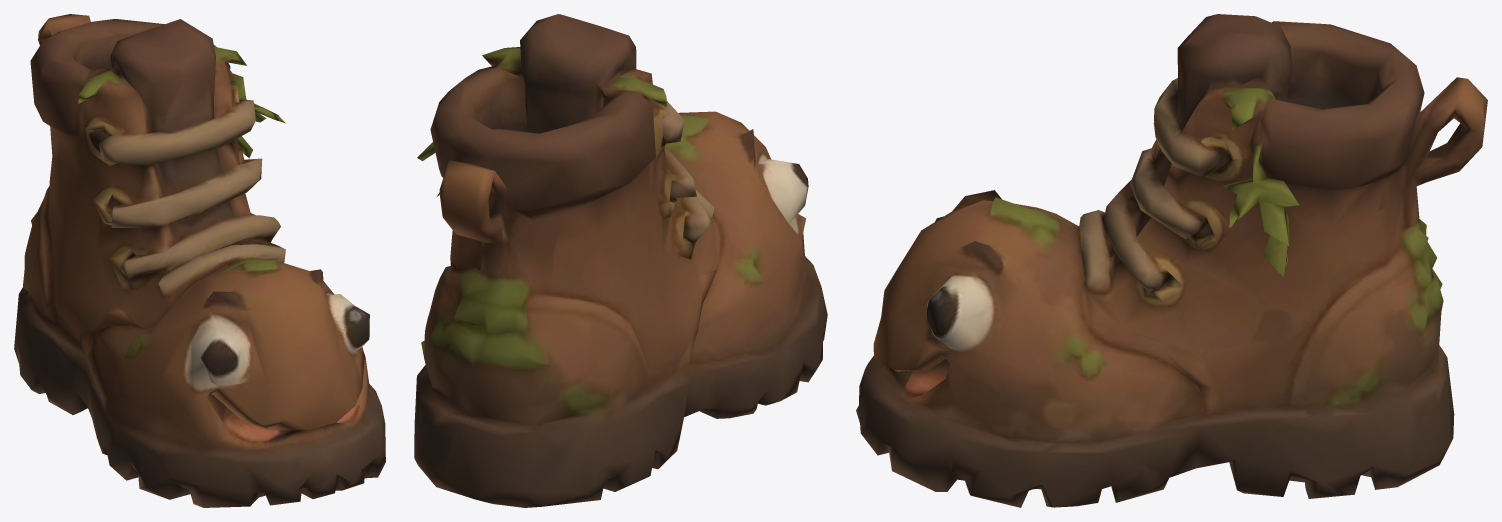
The model's file is fish-boot.glb.
3 views of the same model, side by side, from view 1: azimuth 30°, elevation 25°; view 2: azimuth 150°, elevation 25°; view 3: azimuth 270°, elevation 25° (orthographic). The views are drawn at different scales.
Parts seen in each view (by area): view 1: tripo_node_ed3df494-5368-44f1-8da7-e5716577e932; view 2: tripo_node_ed3df494-5368-44f1-8da7-e5716577e932; view 3: tripo_node_ed3df494-5368-44f1-8da7-e5716577e932.
Part boxes in pixels (bbox=[...]): tripo_node_ed3df494-5368-44f1-8da7-e5716577e932: bbox=[14, 14, 385, 507]; tripo_node_ed3df494-5368-44f1-8da7-e5716577e932: bbox=[414, 14, 827, 507]; tripo_node_ed3df494-5368-44f1-8da7-e5716577e932: bbox=[856, 14, 1487, 507].
Bounding box in the file's own units: 0.509 × 0.7417 × 1.
1 material, 1 textured.
